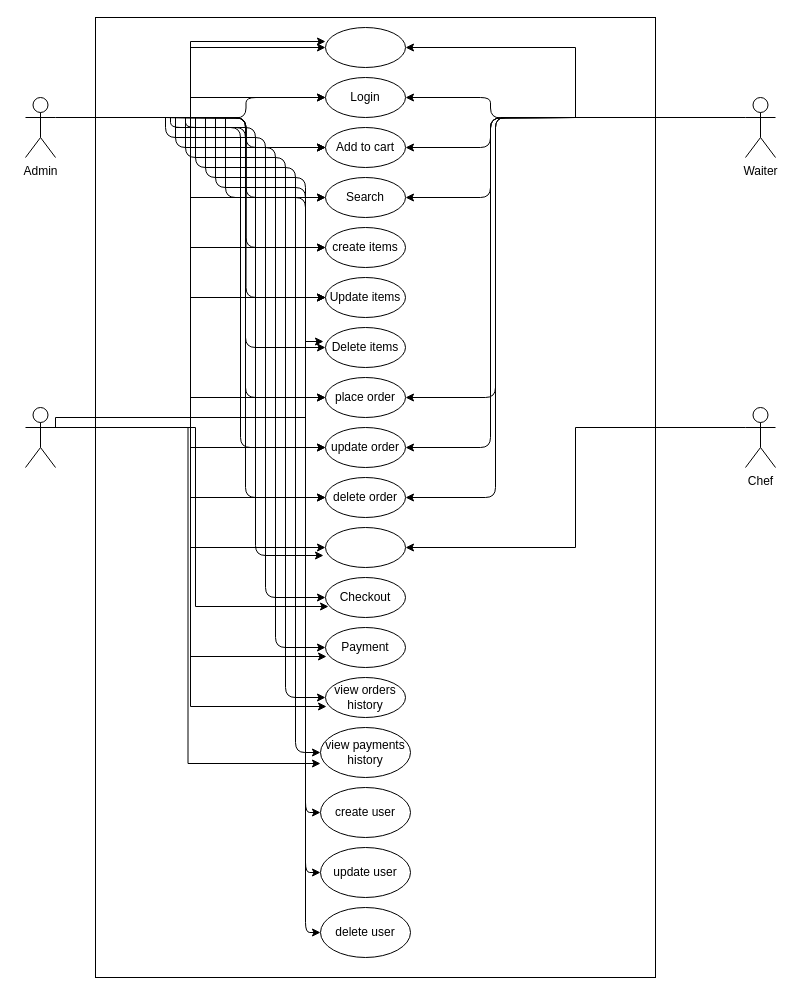
Image size: 795x995. Some labels were removed from this diagram. Each missing label, with the centre of its shape:
"Manager" belongs at point (40, 437).
"Signup" belongs at point (365, 47).
"view order" belongs at point (365, 547).
